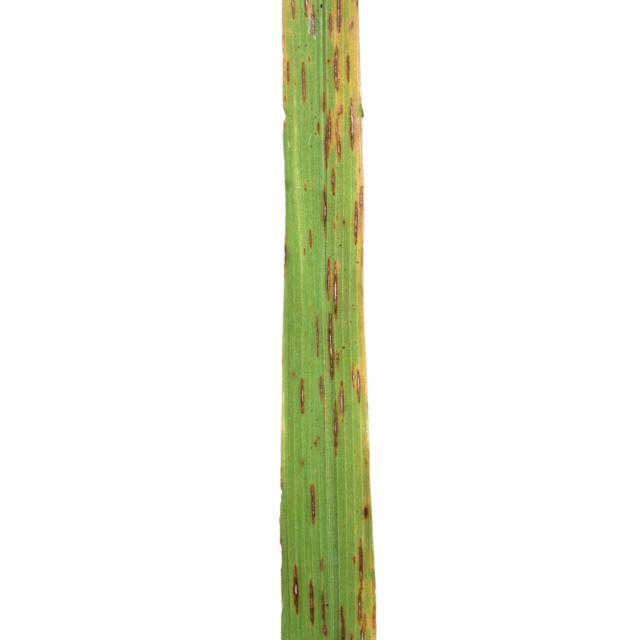Narrow brown: (174, 0, 410, 640)
